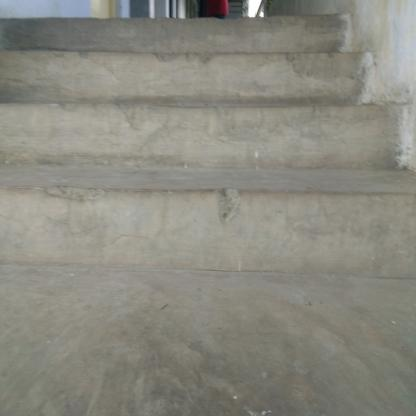stairs: (1, 20, 416, 282)
